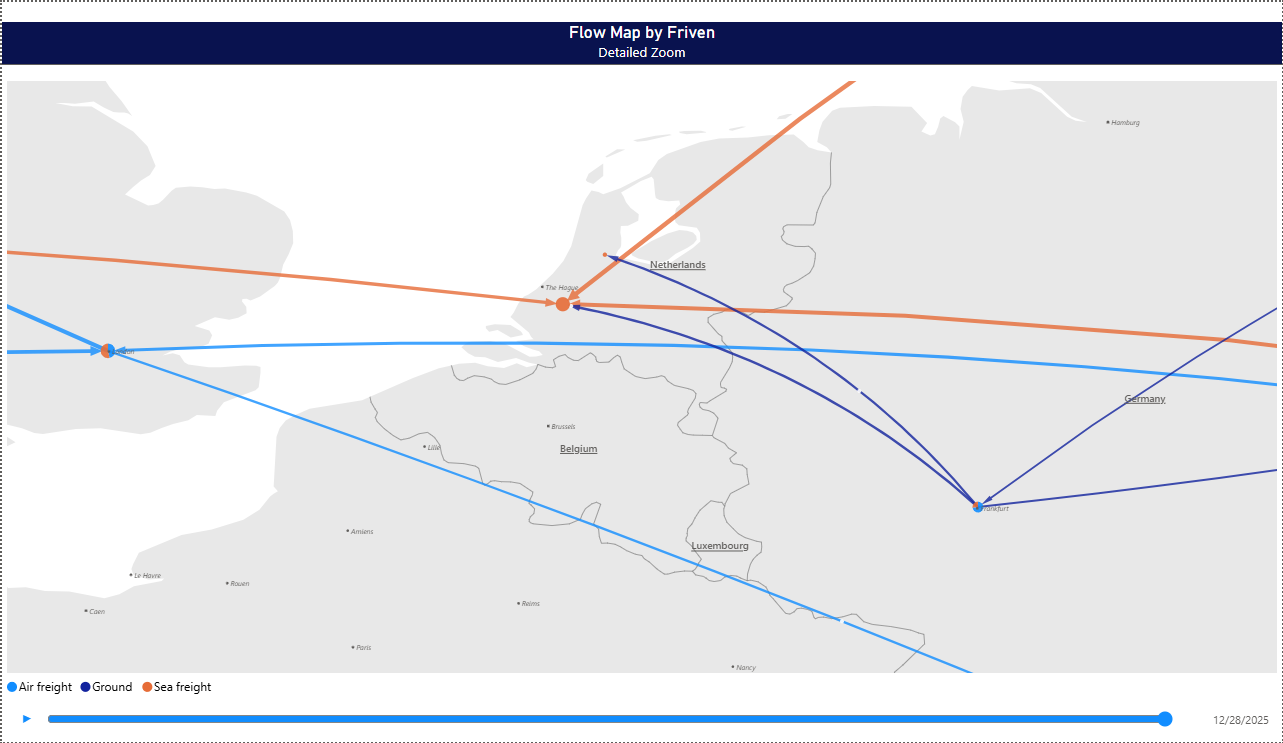

What the dashboard file says about the page in this screenshot:
{"tool":"powerbi","page":{"name":"Zoom","canvas":[1280,720],"ordinal":3},"visuals":[{"type":"flowMap094E8B8E0C644C80B88BA54992D66F39","title":"Flow Map by Friven","fields":{"origin":["sample-data.Origin"],"originLatitude":["sample-data.OriginLat"],"originLongitude":["sample-data.OriginLon"],"originSize":["Sum(sample-data.OriginShipments)"],"destination":["sample-data.Destination"],"destLatitude":["sample-data.DestLat"],"destLongitude":["sample-data.DestLon"],"destinationSize":["Sum(sample-data.DestShipments)"],"value":["Sum(sample-data.ArrowThickness)"],"legend":["sample-data.Category"],"routeId":["sample-data.RouteID"],"legOrder":["sample-data.LegOrder"],"time":["sample-data.Date"],"endTime":["sample-data.EndDate"]},"box":[0,0,1280,719.8],"z":0}]}

Visuals, with their boxes in screenshot pixels (x1, y1, x2, y2), scaled from the page's 1280x720 canvas onto the 1283x743 screenshot:
"Flow Map by Friven" flowMap094E8B8E0C644C80B88BA54992D66F39: <box>0,0,1282,742</box>
